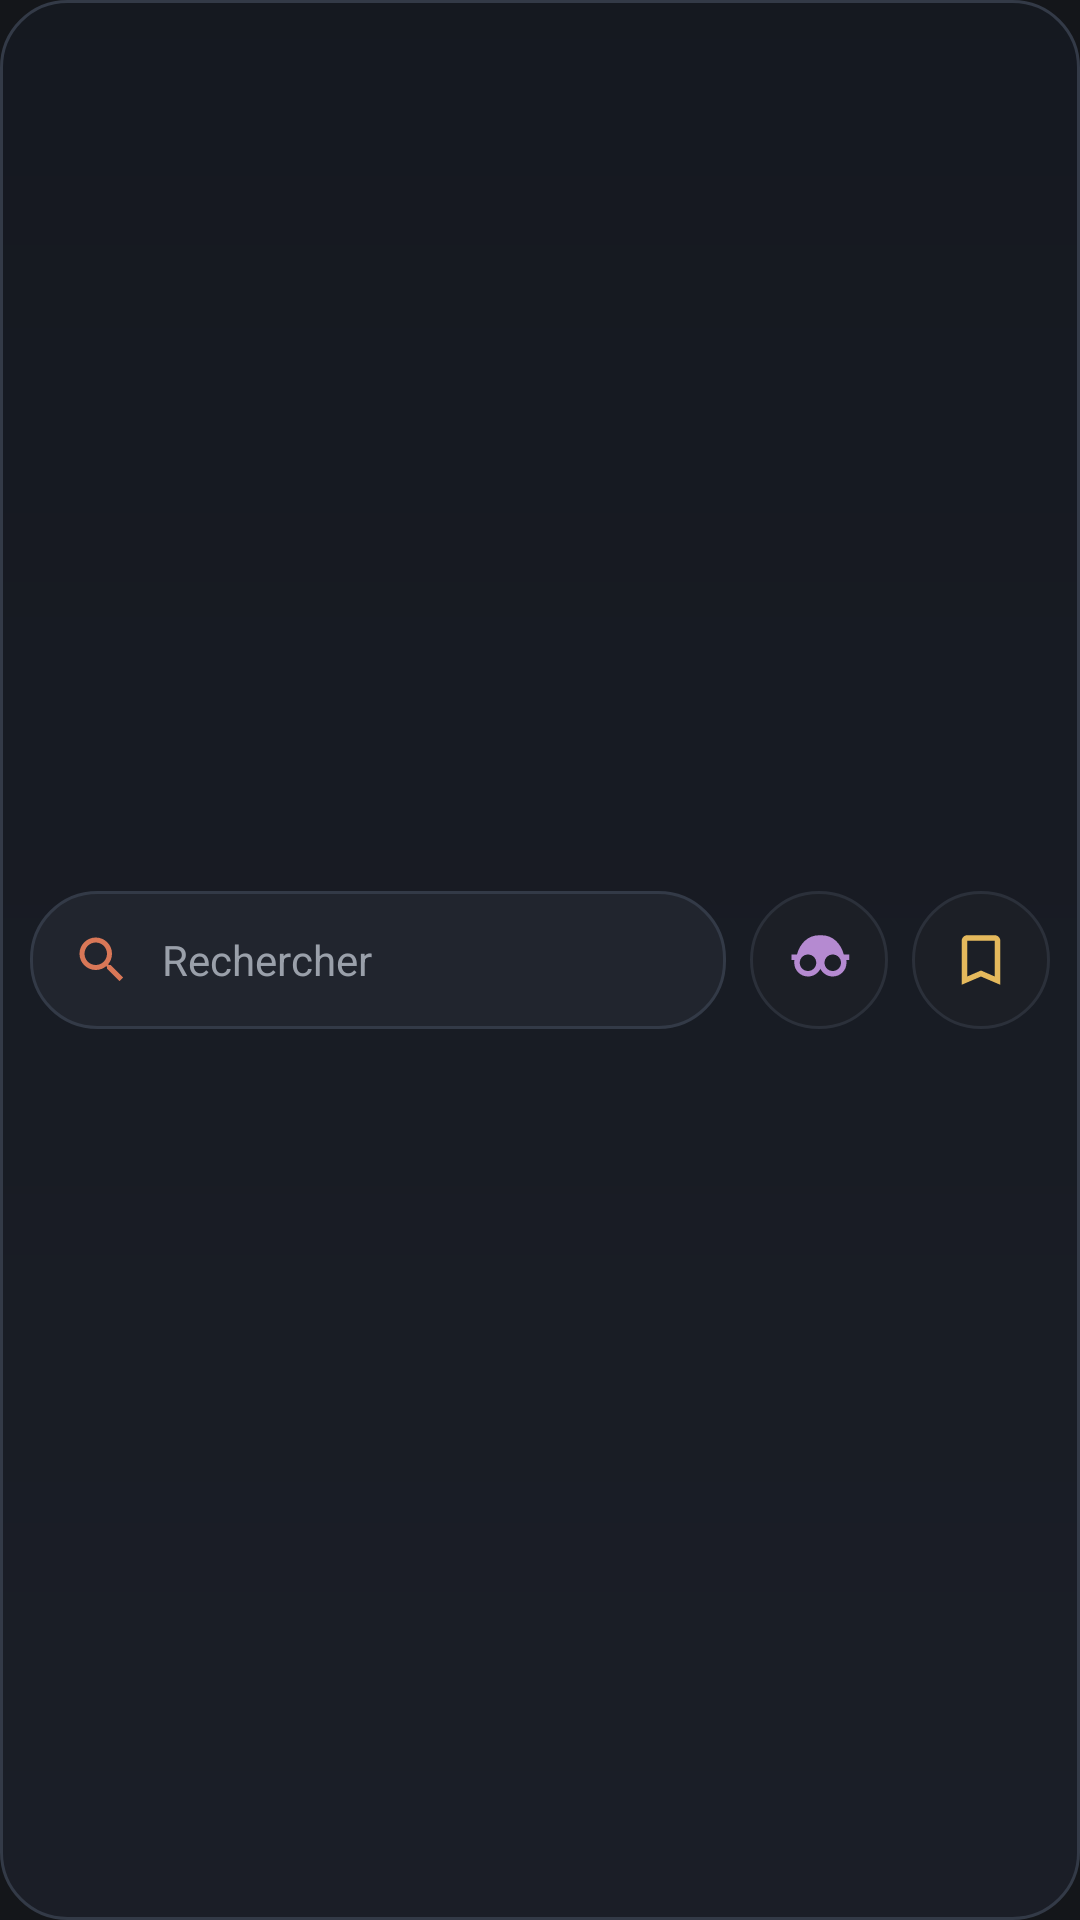

Locate icon controls on the screen. Image size 1080x1920, boxes as box=[x1, y1, x2, y2].
Favoris: box=[961, 935, 1001, 985]
Navigation privee: box=[791, 935, 850, 977]
